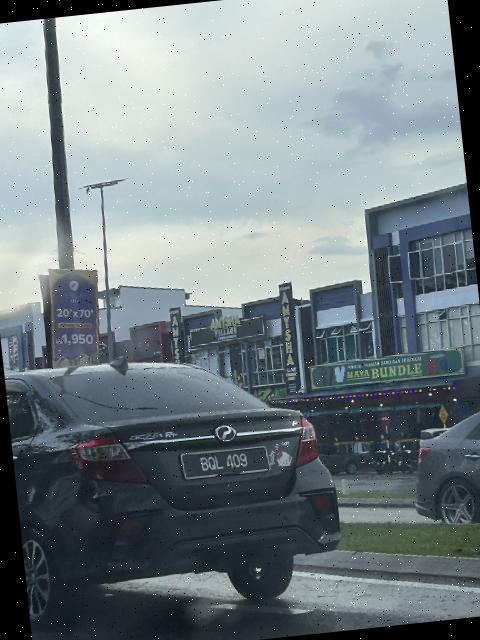License_Plate: (180, 445, 270, 483)
car: (10, 334, 356, 632)
